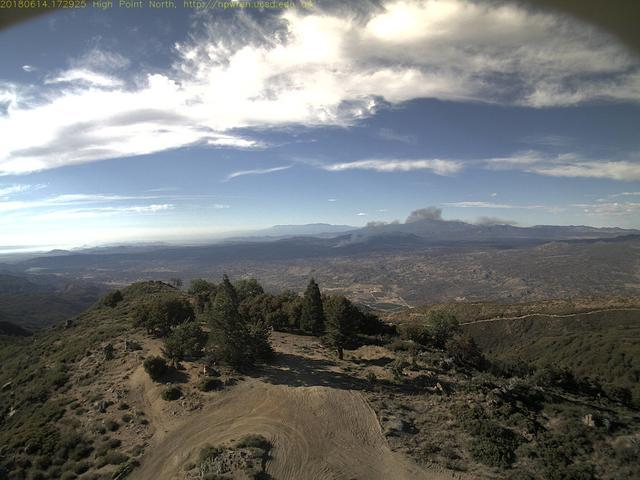smoke: (330, 203, 521, 251)
